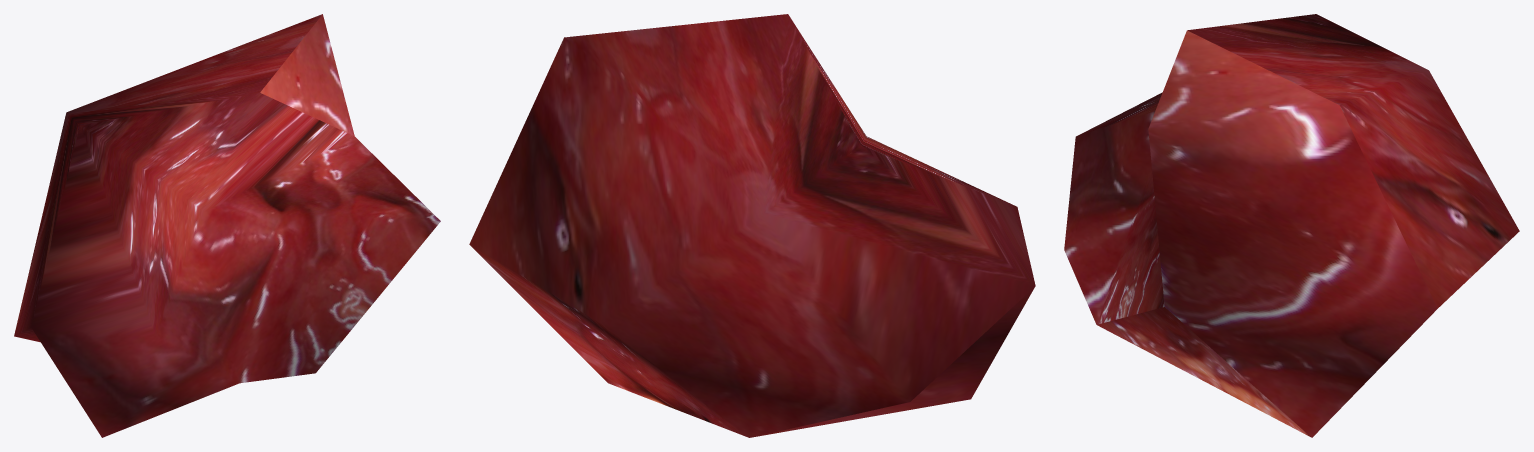
The model's file is gib_06.fbx.
The picture shows the model from 3 angles, left to right: view 1: azimuth 30°, elevation 25°; view 2: azimuth 150°, elevation 25°; view 3: azimuth 270°, elevation 25°; orthographic projection. The views are drawn at different scales.
Visible parts, largest first — view 1: meaty_gib3; view 2: meaty_gib3; view 3: meaty_gib3.
Part boxes in pixels (x1=…): meaty_gib3: x1=14, y1=14, x2=440, y2=437; meaty_gib3: x1=469, y1=14, x2=1035, y2=437; meaty_gib3: x1=1064, y1=14, x2=1519, y2=437.
Size of the model in its own units: 0.2798 by 0.2146 by 0.2487.
